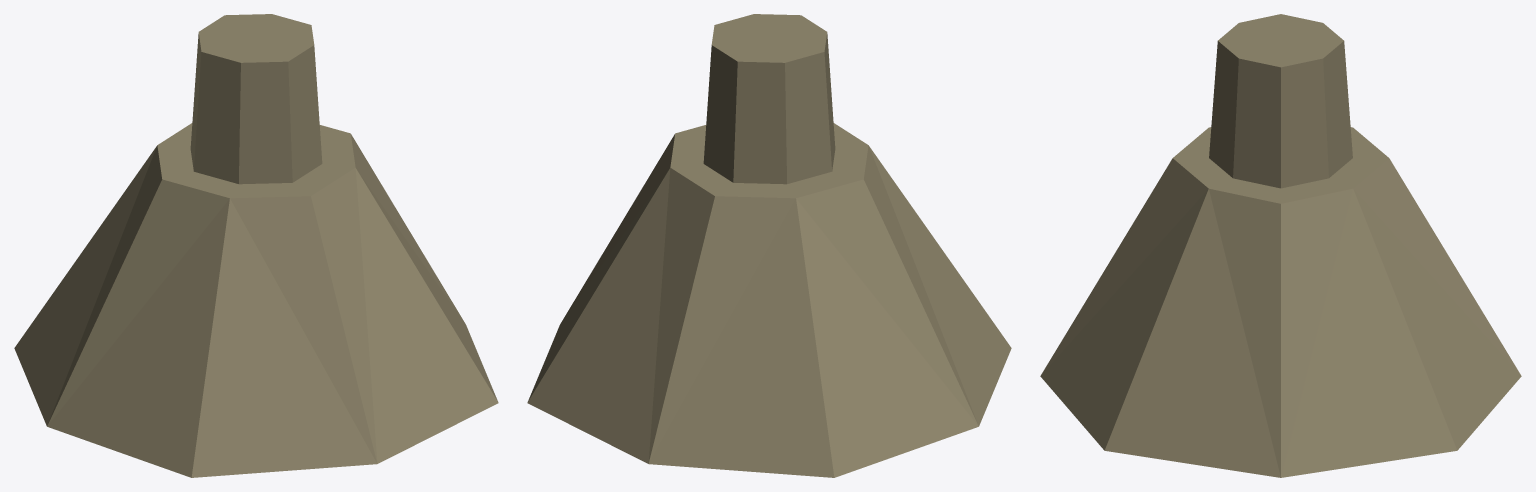
File: lamp_mesh.dae
The picture shows the model from 3 angles, left to right: view 1: azimuth 30°, elevation 25°; view 2: azimuth 150°, elevation 25°; view 3: azimuth 270°, elevation 25°; orthographic projection.
Parts seen in each view (by area): view 1: LampMesh; view 2: LampMesh; view 3: LampMesh.
Part boxes in pixels (x1,y1,x2,y2): LampMesh: (14, 14, 498, 477); LampMesh: (527, 14, 1011, 477); LampMesh: (1040, 14, 1521, 477).
Bounding box in the file's own units: 2 × 2 × 1.54.
